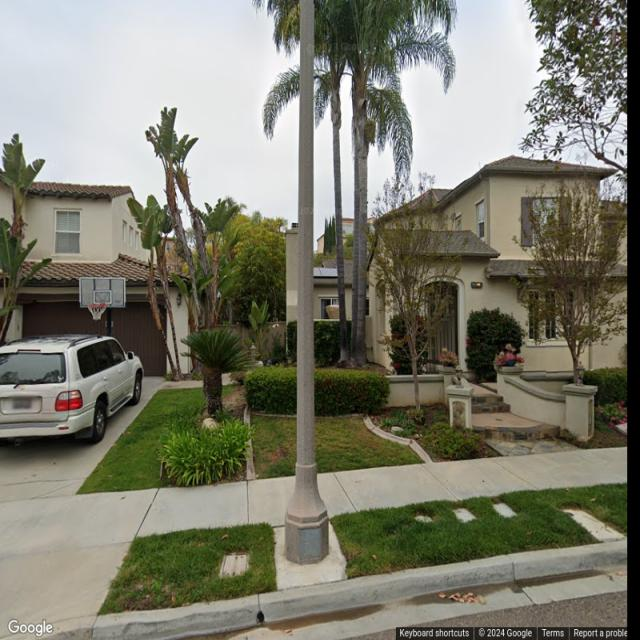House: (286, 156, 628, 375), (0, 168, 206, 382)
